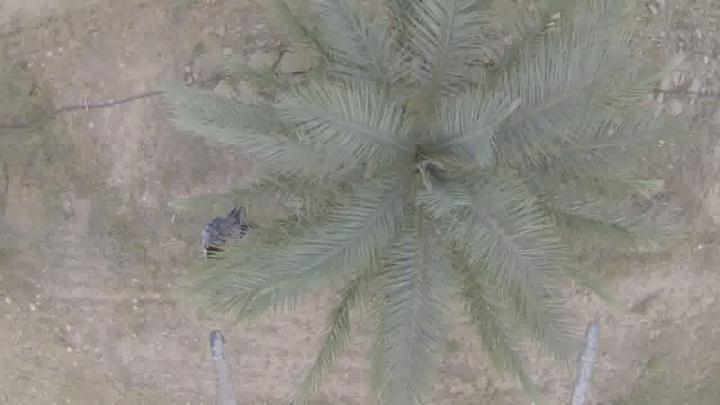Date-Palm-Crown: (279, 47, 563, 289)
